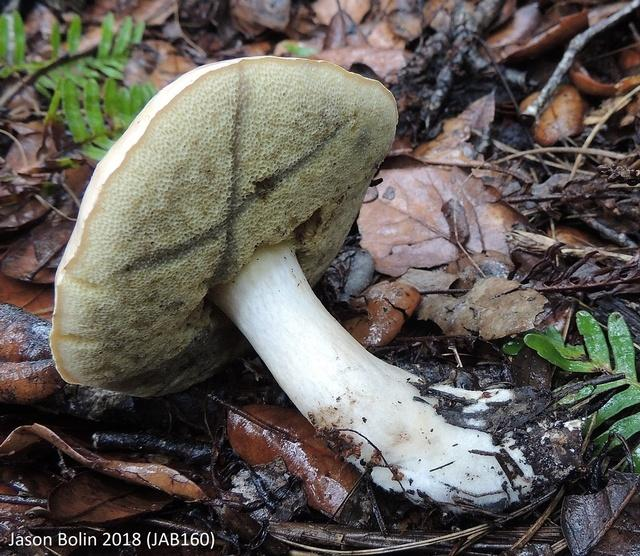edible_mushroom: (48, 53, 597, 519)
